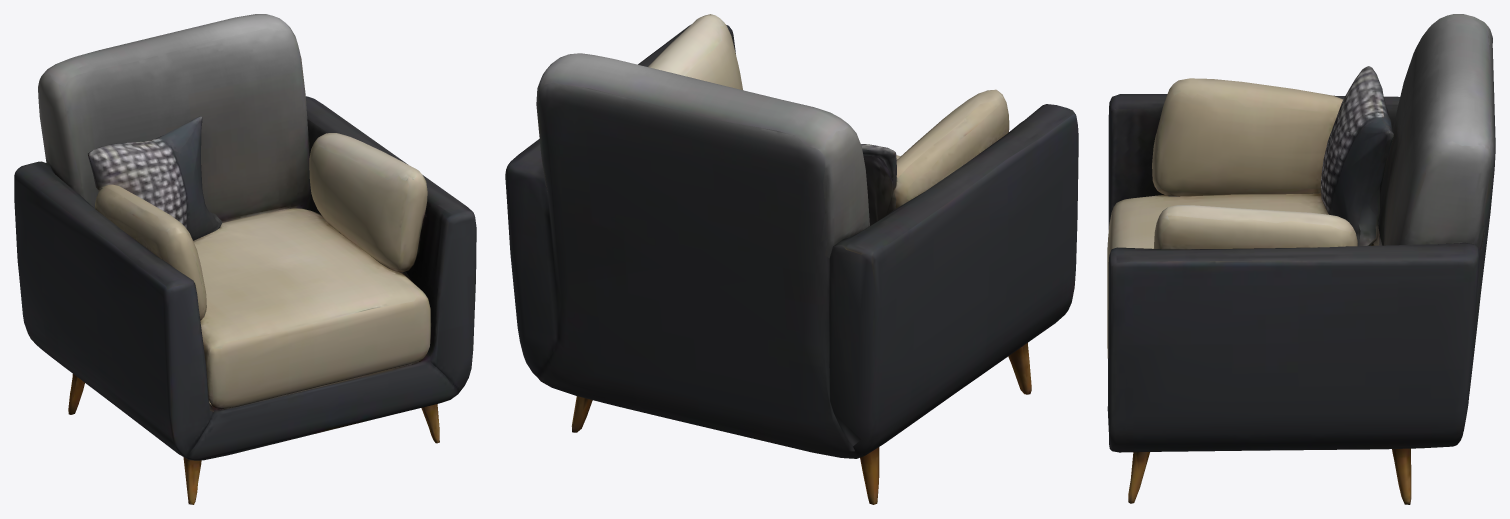
File: armchair_cushion.glb
3 renders of one model, left to right at view 1: azimuth 30°, elevation 25°; view 2: azimuth 150°, elevation 25°; view 3: azimuth 270°, elevation 25°, orthographic. The views are drawn at different scales.
Visible parts, largest first — view 1: Object_5; view 2: Object_5; view 3: Object_5.
Part boxes in pixels (x1,y1,x2,y2): Object_5: (14,14,476,504); Object_5: (505,14,1078,504); Object_5: (1107,14,1495,504).
Size of the model in its own units: 0.8375 by 0.85 by 0.8077.
Materials: 1 (1 with a texture image).
